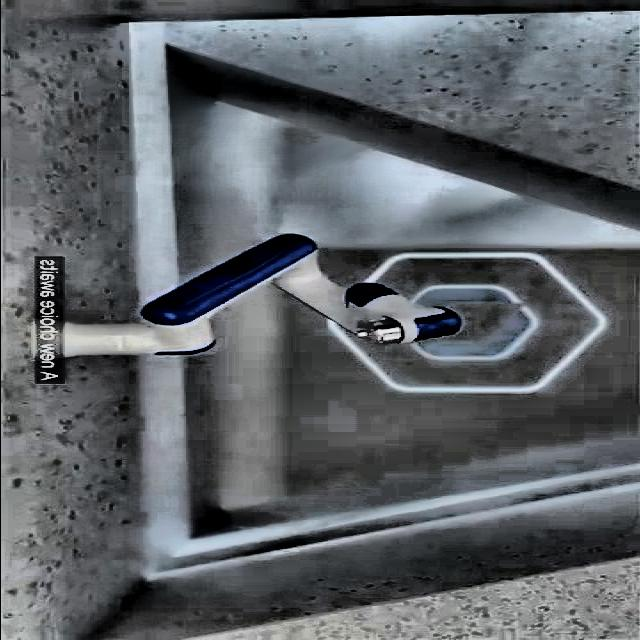robot: (41, 234, 466, 362)
